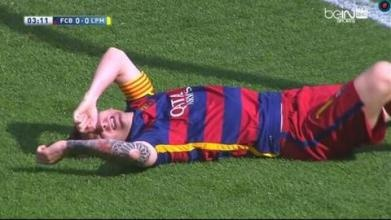falling: (29, 40, 391, 176)
